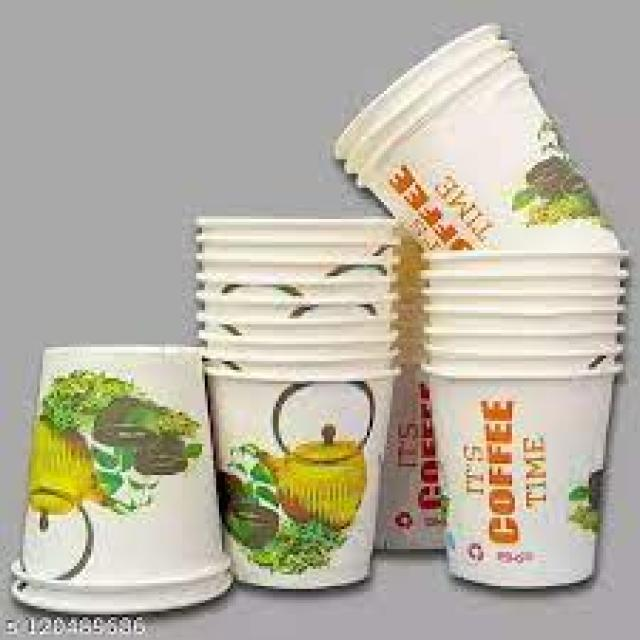PaperCardboard: (199, 217, 397, 592), (422, 249, 631, 585), (329, 22, 620, 259), (13, 343, 228, 617)
